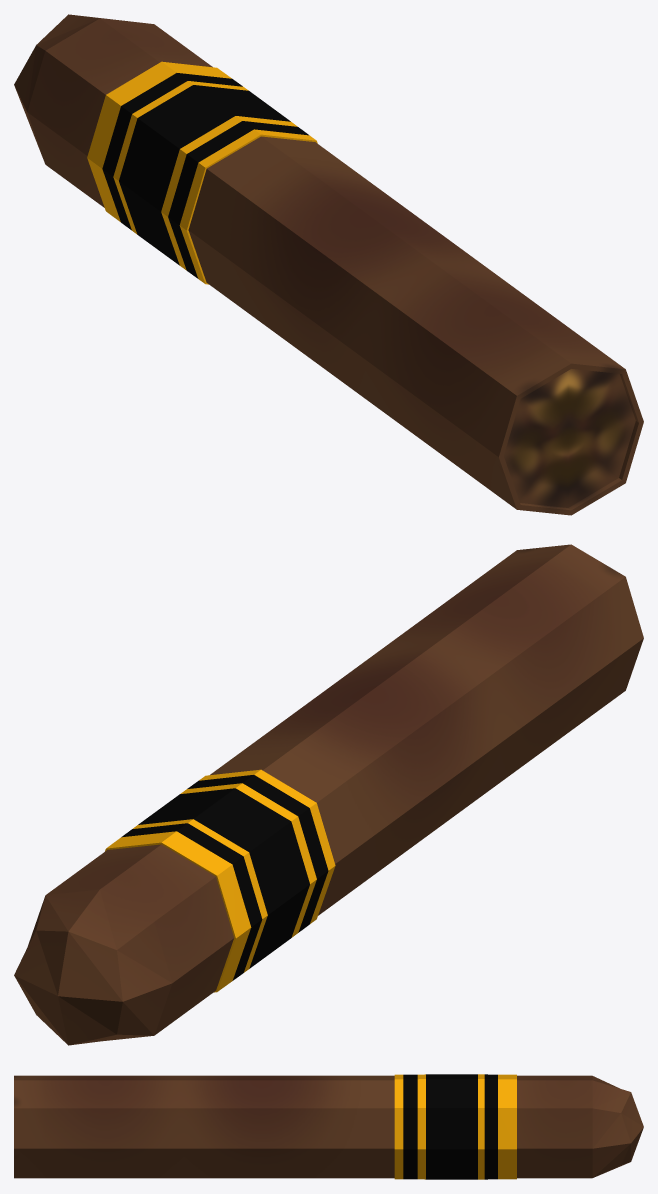
The picture shows the model from 3 angles, top to bottom: view 1: azimuth 30°, elevation 25°; view 2: azimuth 150°, elevation 25°; view 3: azimuth 270°, elevation 25°; orthographic projection. The views are drawn at different scales.
Visible parts, largest first — view 1: Node; view 2: Node; view 3: Node.
Part boxes in pixels (x1,y1,x2,y2): Node: (14, 14, 643, 515); Node: (14, 544, 643, 1045); Node: (14, 1074, 643, 1179).
Bounding box in the file's own units: 1.03 × 1.03 × 6.12.
Materials: 3 (1 with a texture image).
